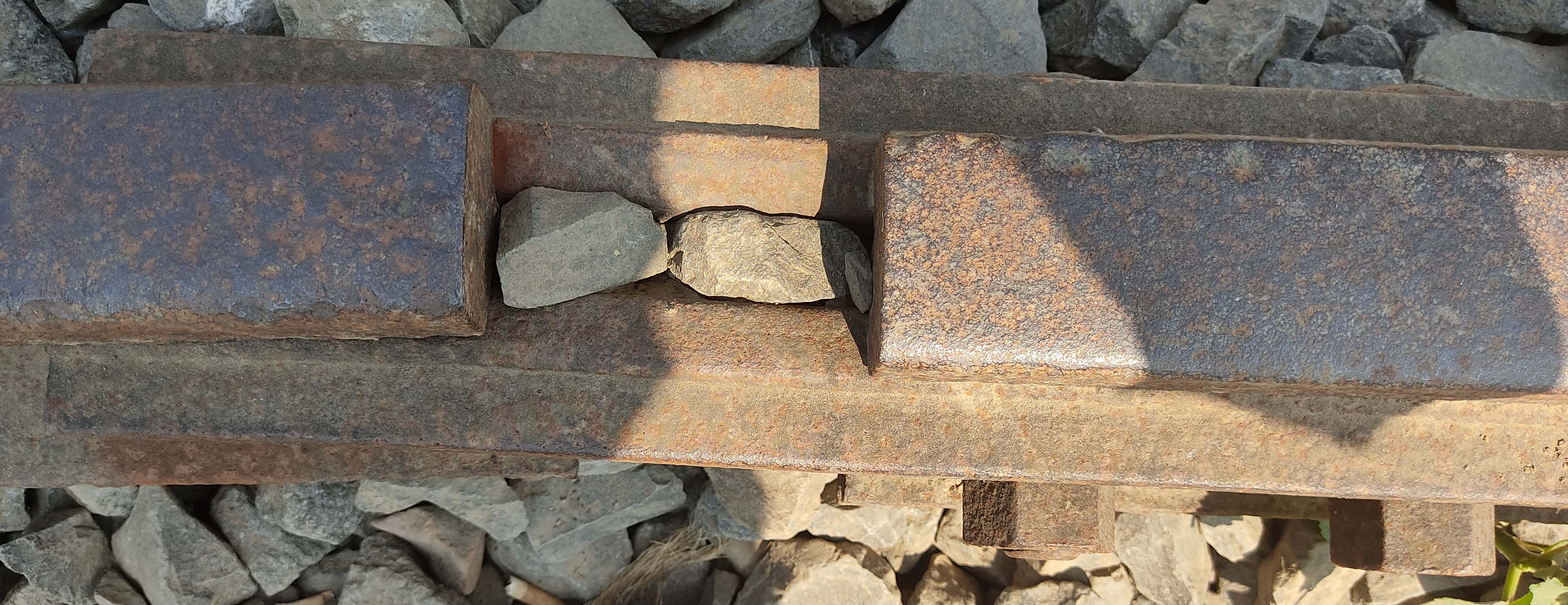duan lie: (447, 51, 932, 417)
